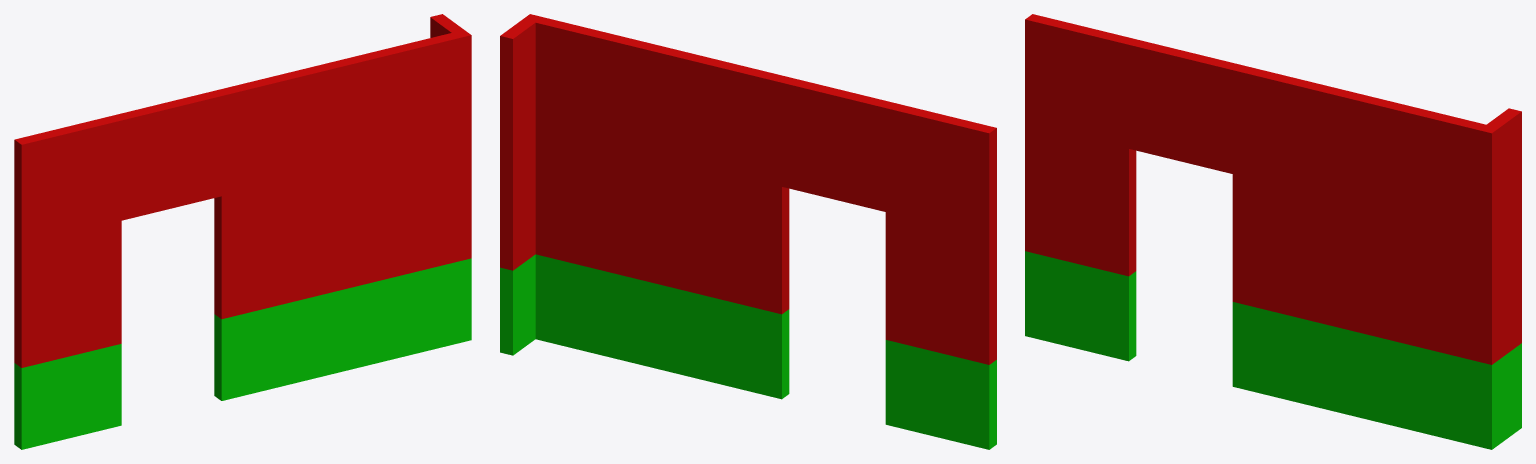
File: wall_modules.fbx
3 views of the same model, side by side, from view 1: azimuth 30°, elevation 25°; view 2: azimuth 150°, elevation 25°; view 3: azimuth 330°, elevation 25° (orthographic). The views are drawn at different scales.
Parts seen in each view (by area): view 1: wall_module_3600, wall_module_1200, wall_module_600_corner; view 2: wall_module_3600, wall_module_1200, wall_module_600_corner; view 3: wall_module_3600, wall_module_1200, wall_module_600_corner.
Boxes of the visible parts, x1,y1,x2,y2 form: wall_module_3600: (14,66,321,449); wall_module_1200: (314,42,421,376); wall_module_600_corner: (415,14,471,352); wall_module_3600: (678,52,996,449); wall_module_1200: (574,26,684,373); wall_module_600_corner: (500,14,581,355); wall_module_3600: (1025,14,1342,411); wall_module_1200: (1336,90,1447,437); wall_module_600_corner: (1440,108,1521,449).
Size of the model in its own units: 540 by 350 by 60.
